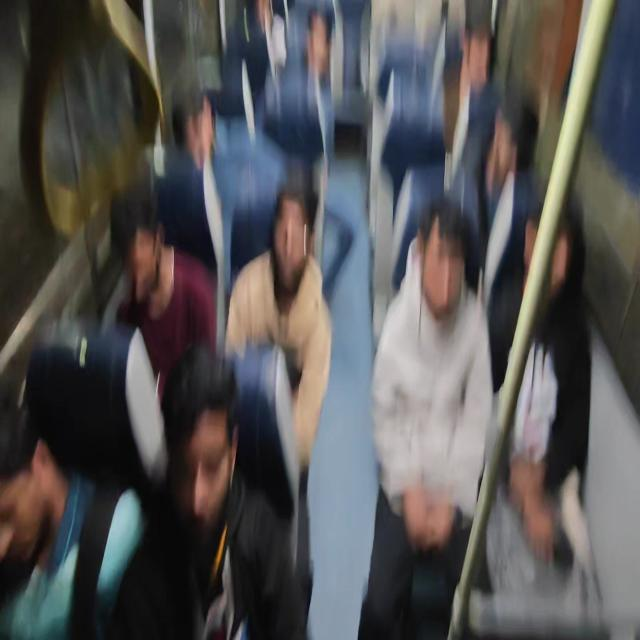person: (2, 1, 628, 637), (357, 196, 494, 638), (1, 320, 164, 638), (223, 182, 333, 635), (484, 184, 594, 612), (108, 344, 244, 638), (108, 182, 218, 405), (479, 90, 539, 394), (159, 76, 225, 286)
